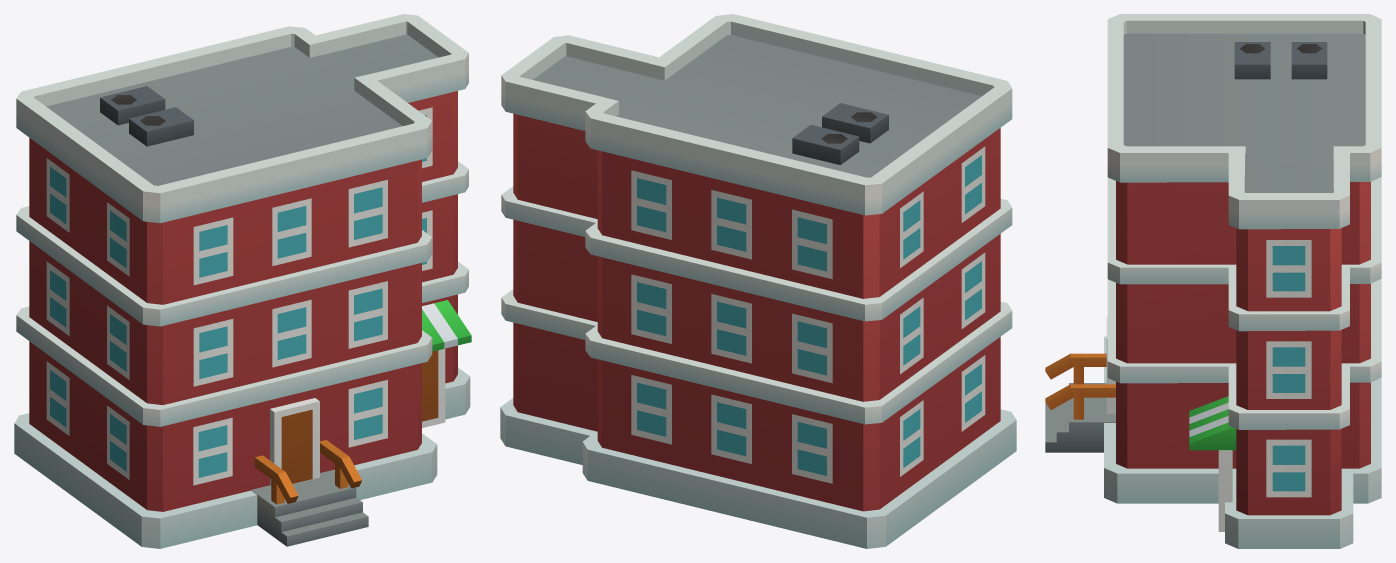
The model's file is Building_cartoon_5.fbx.
3 views of the same model, side by side, from view 1: azimuth 30°, elevation 25°; view 2: azimuth 150°, elevation 25°; view 3: azimuth 270°, elevation 25° (orthographic). The views are drawn at different scales.
Visible parts, largest first — view 1: Building_cartoon_5; view 2: Building_cartoon_5; view 3: Building_cartoon_5.
Boxes of the visible parts, x1,y1,x2,y2 form: Building_cartoon_5: [14, 14, 471, 548]; Building_cartoon_5: [500, 14, 1016, 548]; Building_cartoon_5: [1045, 14, 1381, 548].
Bounding box in the file's own units: 1261 × 1100 × 956.
